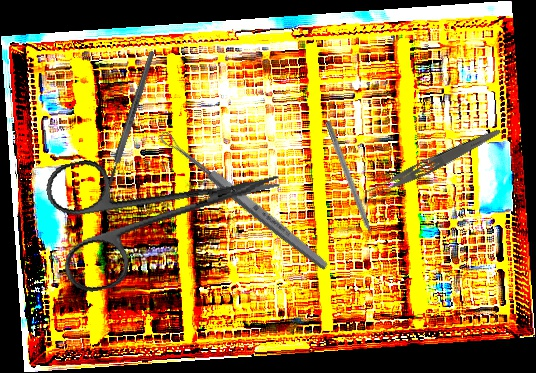Dressing Forceps: (361, 121, 503, 205)
Hook Surgical: (322, 120, 380, 250)
Iris Scissors: (42, 121, 295, 297)
Scalpel Handle: (105, 50, 157, 187)
Surgical Spoon: (156, 128, 332, 273)
